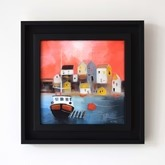painting: (40, 40, 125, 125)
